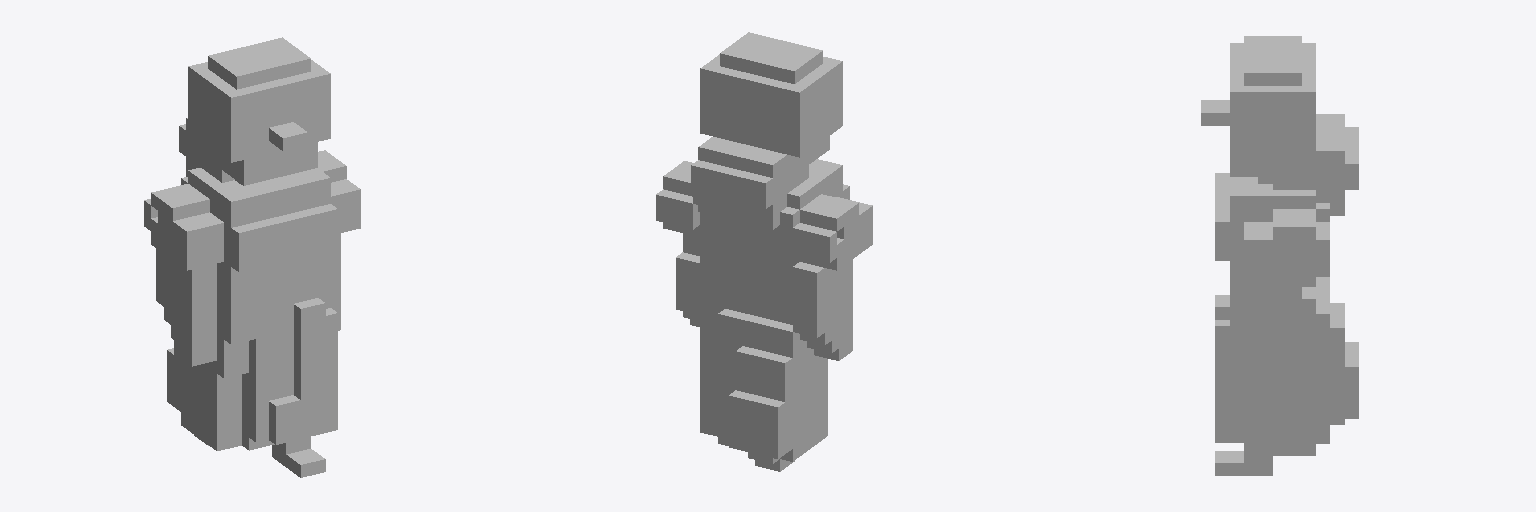
The model's file is monk-10.obj.
The picture shows the model from 3 angles: view 1: azimuth 30°, elevation 25°; view 2: azimuth 150°, elevation 25°; view 3: azimuth 270°, elevation 25°; orthographic projection.
Visible parts, largest first — view 1: monk 10; view 2: monk 10; view 3: monk 10.
Boxes of the visible parts, <box> form: monk 10: <box>144,37,360,477</box>; monk 10: <box>656,32,872,471</box>; monk 10: <box>1201,36,1358,475</box>.
Bounding box in the file's own units: 0.7 × 1.55 × 0.55.